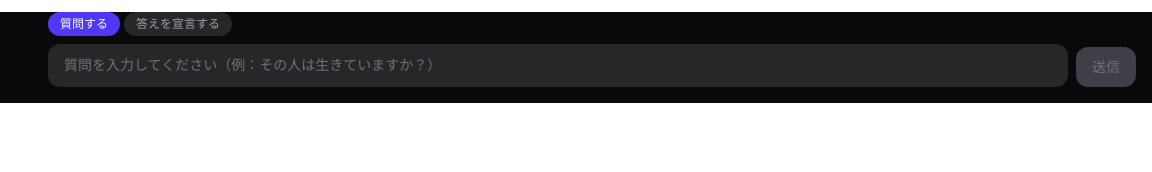
Test: MessageInput — モード切り替え › 「質問する」をクリックすると質問モードに戻る
The width and height of the screenshot is (1152, 172).
Click the button "答えを宣言する": (178, 24) [124,12,232,36]
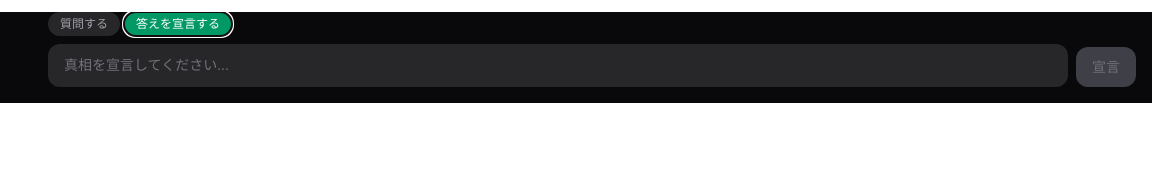
Click the button "質問する": (84, 24) [48,12,120,36]
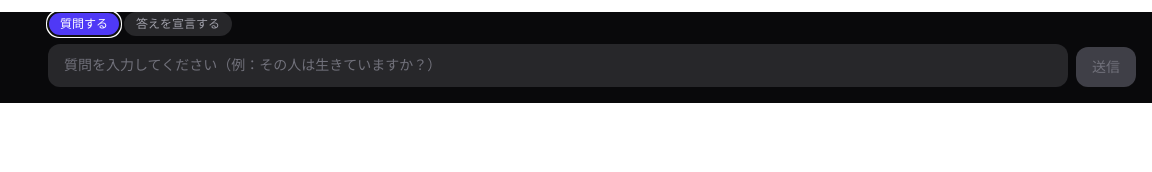
Result: the text box with placeholder "質問を入力してください（例：その人は生きていますか？）" is shown at [48,44,1068,87]
